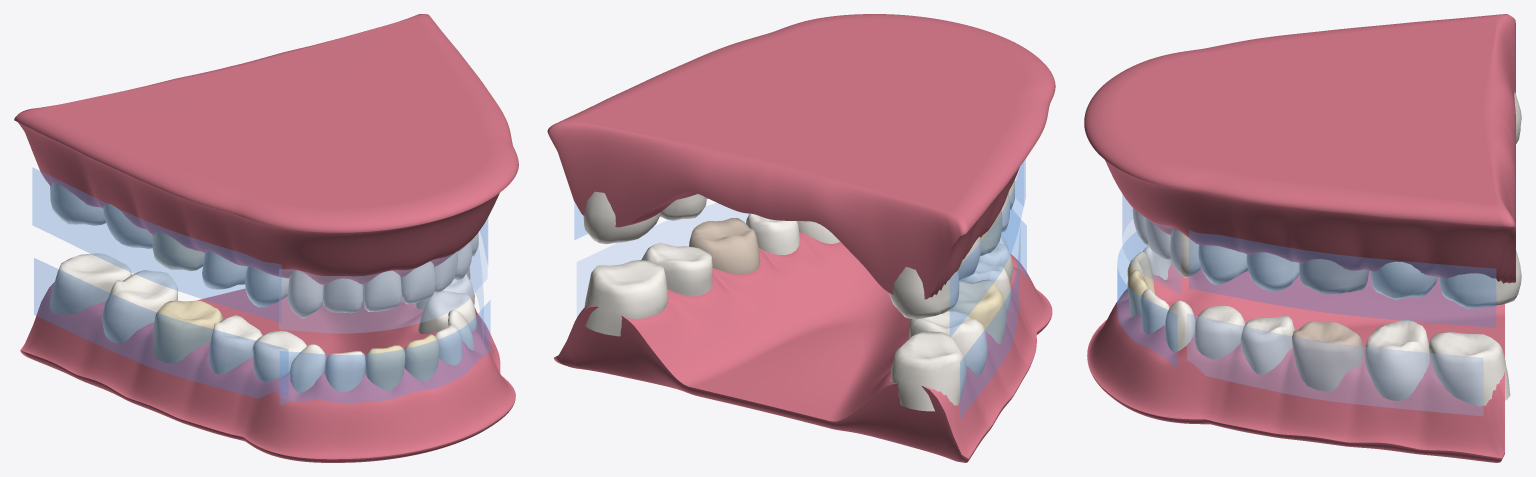
Rendered from oral-model.glb.
The picture shows the model from 3 angles, left to right: view 1: azimuth 30°, elevation 25°; view 2: azimuth 150°, elevation 25°; view 3: azimuth 270°, elevation 25°; orthographic projection. The views are drawn at different scales.
Parts seen in each view (by area): view 1: upper_gum, lower_gum, part_42, part_17, part_43, part_18, tooth_47, tooth_48, tooth_46, tooth_45, tooth_44, tooth_34 (+17 smaller); view 2: upper_gum, lower_gum, tooth_38, tooth_48, part_42, part_17, part_19, tooth_36, tooth_37, tooth_47, tooth_18, tooth_46 (+9 smaller); view 3: upper_gum, lower_gum, part_44, part_19, tooth_38, tooth_37, tooth_36, part_18, part_43, tooth_35, tooth_28, tooth_34 (+11 smaller).
Boxes of the visible parts, left/top/right/bottom form: upper_gum: left=14, top=14, right=518, bottom=284; lower_gum: left=20, top=282, right=515, bottom=462; part_42: left=32, top=167, right=281, bottom=322; part_17: left=34, top=258, right=288, bottom=398; part_43: left=279, top=219, right=487, bottom=333; part_18: left=280, top=300, right=490, bottom=404; tooth_47: left=102, top=270, right=177, bottom=343; tooth_48: left=50, top=253, right=131, bottom=314; tooth_46: left=153, top=300, right=223, bottom=363; tooth_45: left=208, top=315, right=262, bottom=374; tooth_44: left=252, top=331, right=306, bottom=381; tooth_34: left=418, top=291, right=476, bottom=333; upper_gum: left=547, top=14, right=1055, bottom=299; lower_gum: left=554, top=232, right=1052, bottom=462; tooth_38: left=584, top=260, right=668, bottom=336; tooth_48: left=890, top=331, right=966, bottom=411; part_42: left=950, top=159, right=1025, bottom=336; part_17: left=960, top=230, right=1020, bottom=418; part_19: left=577, top=203, right=748, bottom=316; tooth_36: left=689, top=218, right=760, bottom=274; tooth_37: left=641, top=242, right=712, bottom=296; tooth_47: left=909, top=310, right=987, bottom=375; tooth_18: left=888, top=267, right=959, bottom=319; tooth_46: left=951, top=279, right=1006, bottom=344; upper_gum: left=1084, top=14, right=1515, bottom=283; lower_gum: left=1087, top=261, right=1504, bottom=462; part_44: left=1189, top=230, right=1495, bottom=327; part_19: left=1187, top=313, right=1483, bottom=415; tooth_38: left=1429, top=332, right=1510, bottom=406; tooth_37: left=1364, top=319, right=1430, bottom=400; tooth_36: left=1292, top=321, right=1364, bottom=391; part_18: left=1117, top=232, right=1177, bottom=369; part_43: left=1122, top=194, right=1180, bottom=293; tooth_35: left=1240, top=316, right=1295, bottom=374; tooth_28: left=1439, top=250, right=1521, bottom=308; tooth_34: left=1194, top=305, right=1245, bottom=359.
Bounding box in the file's own units: 0.0694 × 0.0397 × 0.0618.
